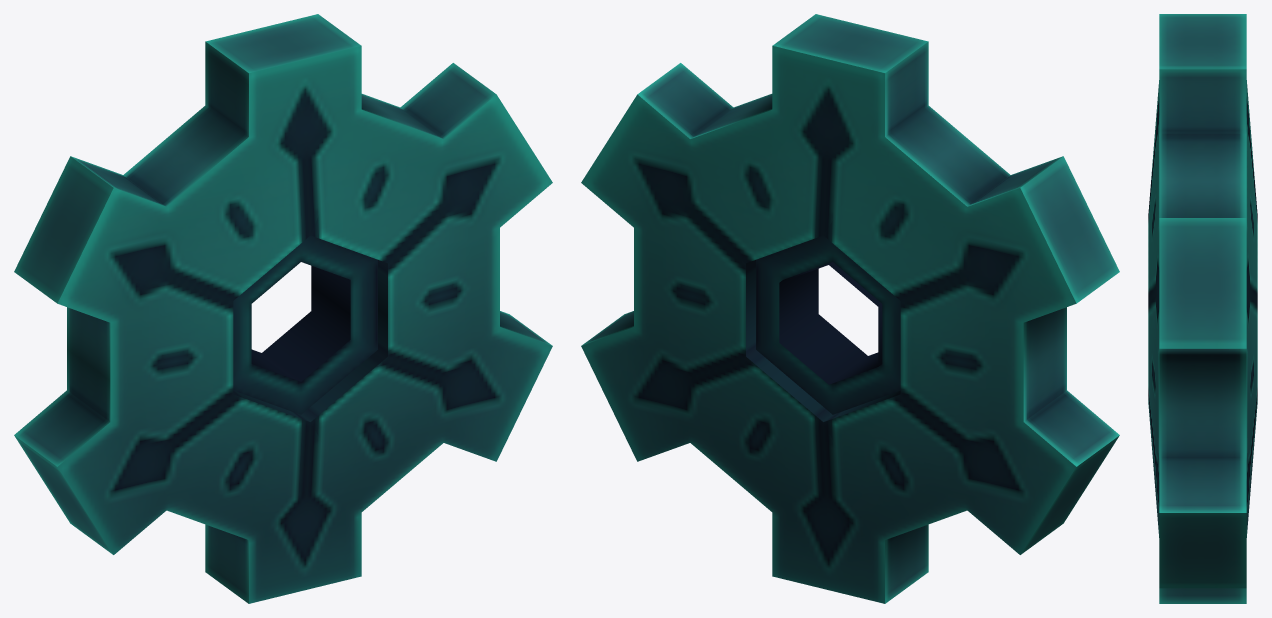
3 views of the same model, side by side, from view 1: azimuth 30°, elevation 25°; view 2: azimuth 150°, elevation 25°; view 3: azimuth 270°, elevation 25° (orthographic).
Parts seen in each view (by area): view 1: GearLow; view 2: GearLow; view 3: GearLow.
Part boxes in pixels (left/top/right/bottom): GearLow: left=14, top=14, right=552, bottom=603; GearLow: left=581, top=14, right=1119, bottom=603; GearLow: left=1148, top=14, right=1257, bottom=603.
Bounding box in the file's own units: 106 × 108 × 20.
1 material, 1 textured.
